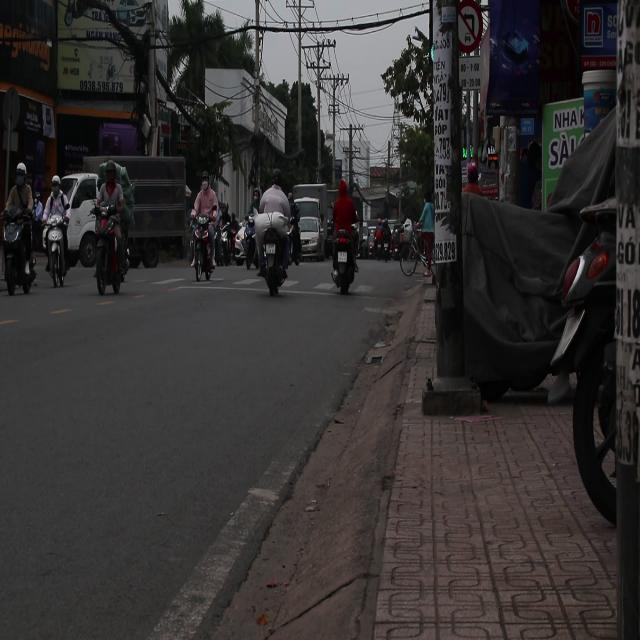car: (296, 214, 323, 258)
motorbike: (89, 195, 130, 303), (0, 204, 39, 306), (256, 218, 294, 296), (189, 207, 218, 293), (329, 226, 361, 294), (48, 210, 68, 293), (235, 219, 257, 269), (219, 219, 240, 268), (359, 226, 375, 258)
truck: (63, 154, 186, 270), (290, 185, 333, 255)
